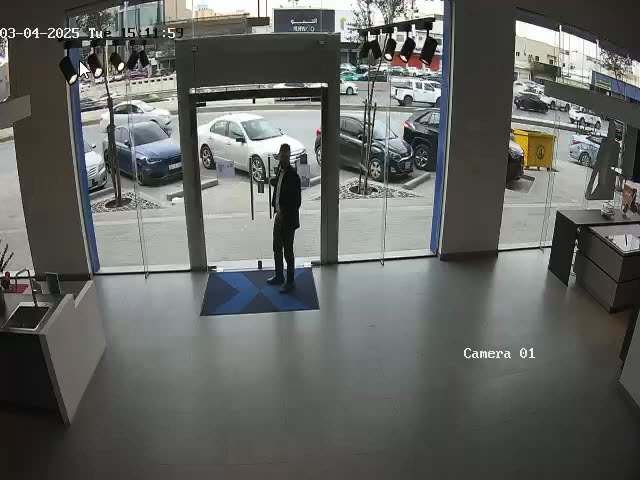male: (264, 143, 302, 293)
